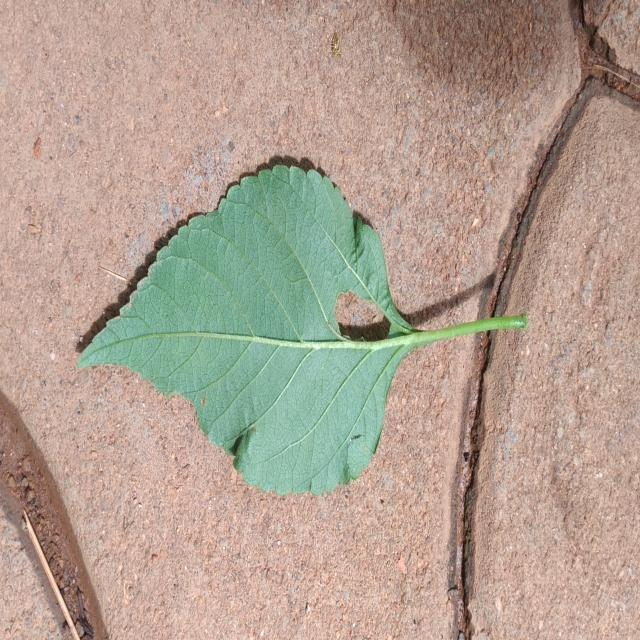Lantana: (79, 167, 516, 496)
